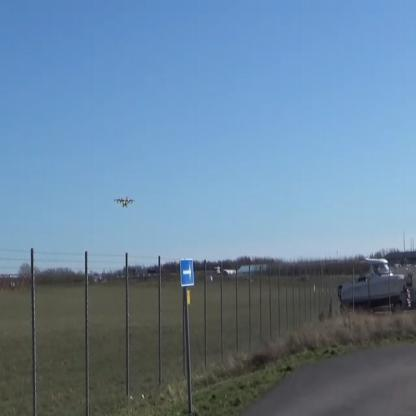CIV_Plane: (112, 194, 138, 212)
